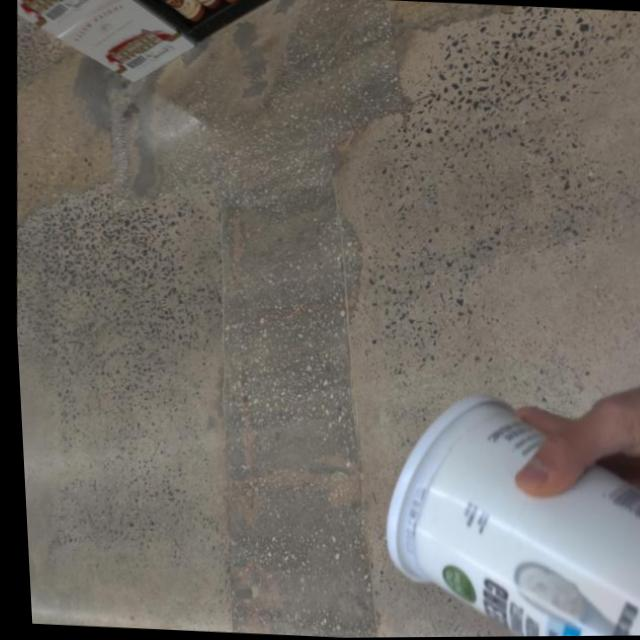Yogurt: (366, 391, 640, 638)
